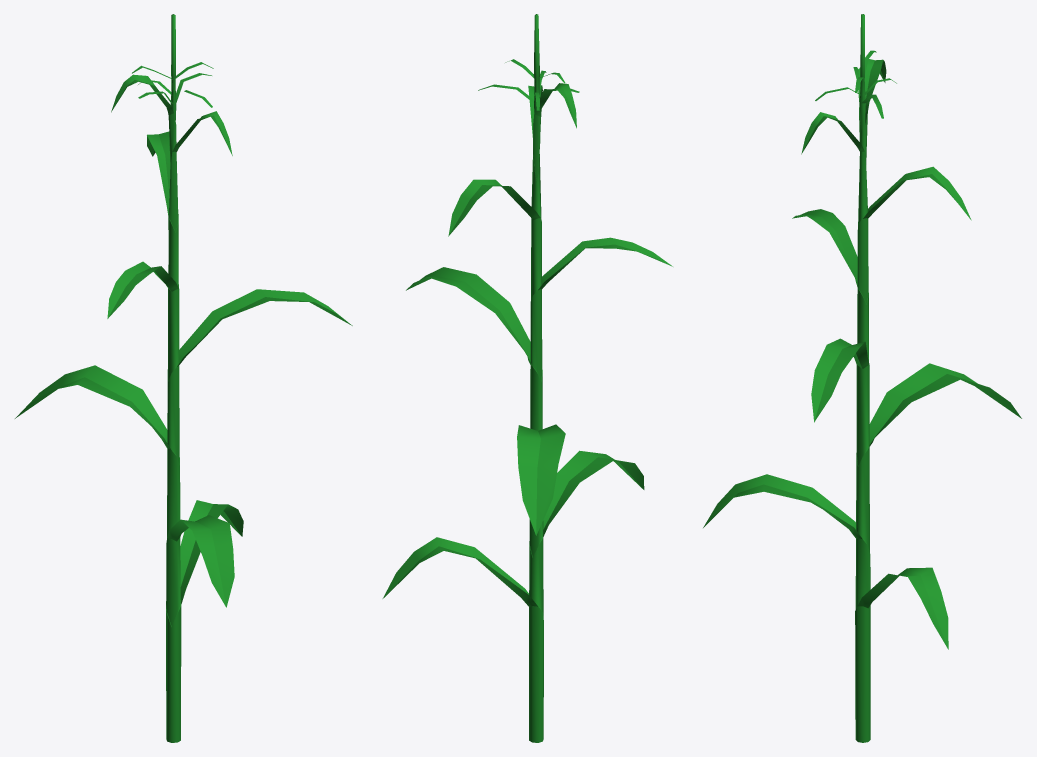
Rendered from SM_Corn_Growing3.fbx.
3 views of the same model, side by side, from view 1: azimuth 30°, elevation 25°; view 2: azimuth 150°, elevation 25°; view 3: azimuth 270°, elevation 25° (orthographic).
Visible parts, largest first — view 1: SM_Corn_Growing3; view 2: SM_Corn_Growing3; view 3: SM_Corn_Growing3.
Part boxes in pixels (<box>): SM_Corn_Growing3: <box>15,14,352,742</box>; SM_Corn_Growing3: <box>382,14,672,742</box>; SM_Corn_Growing3: <box>703,14,1021,742</box>.
Bounding box in the file's own units: 79.04 × 213 × 85.14.
